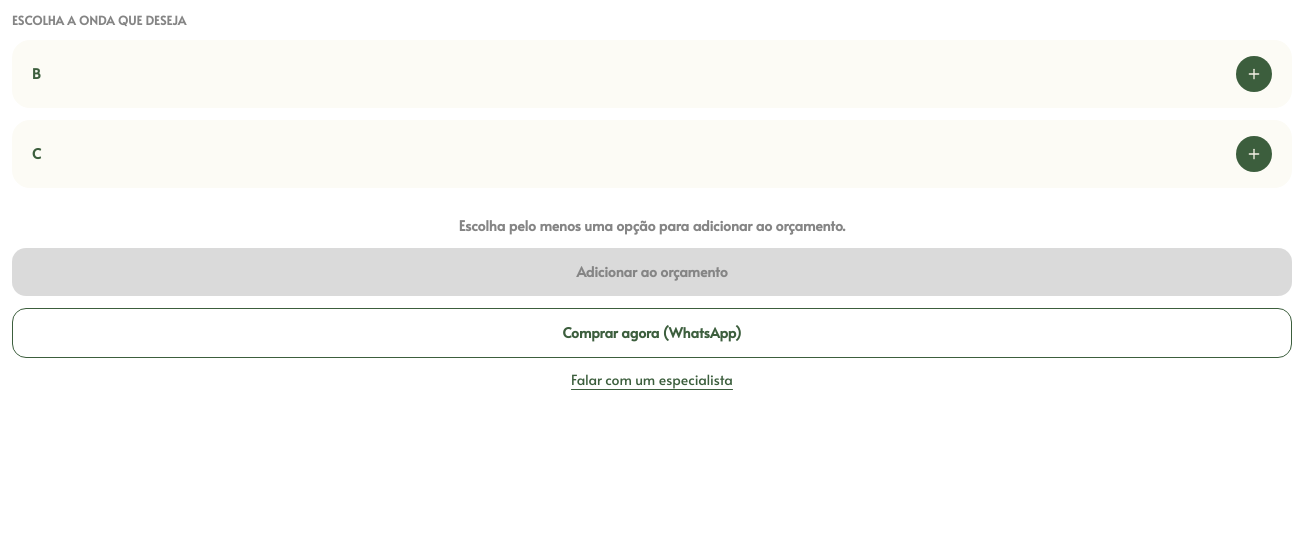
Test: marcar uma opção mostra o escolhedor de quantidade dela, com o mínimo 1
This screenshot has width=1304, height=549.
Click the checkbox labelled "B": (1254,74) [12,40,1292,108]
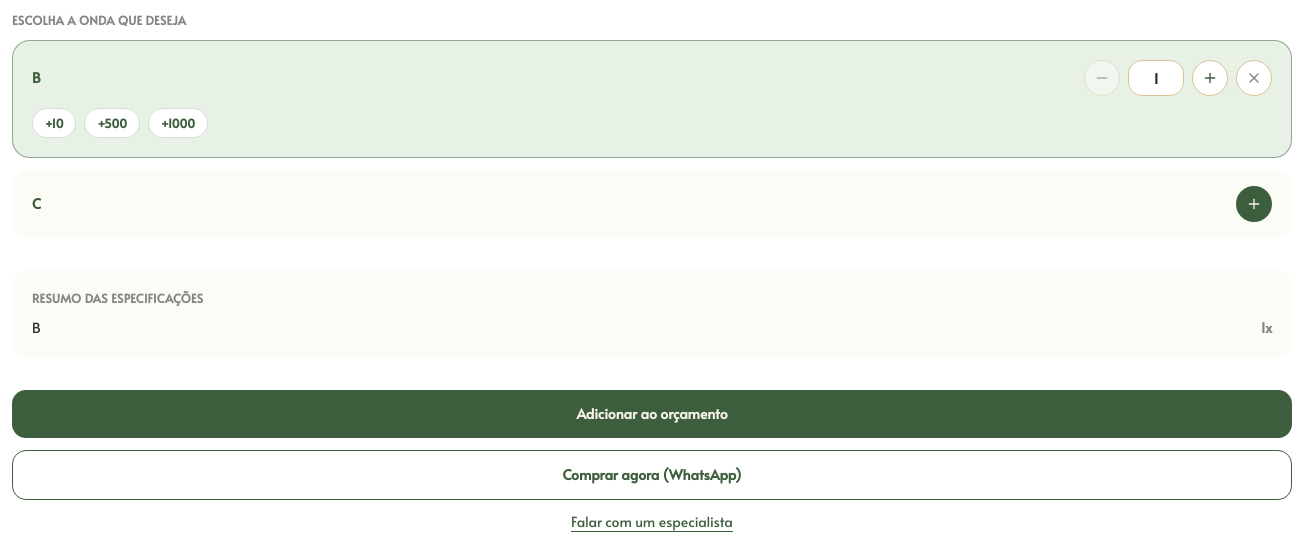
Check: the field named "Quantidade de B" holds "1", box [1128,60,1184,96]
